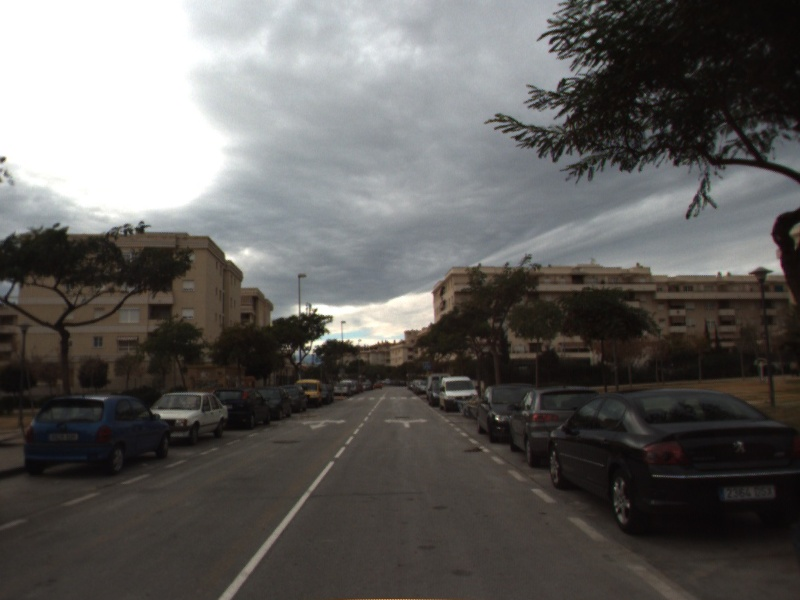LEFT_RIGHT: (382, 416, 430, 430)
